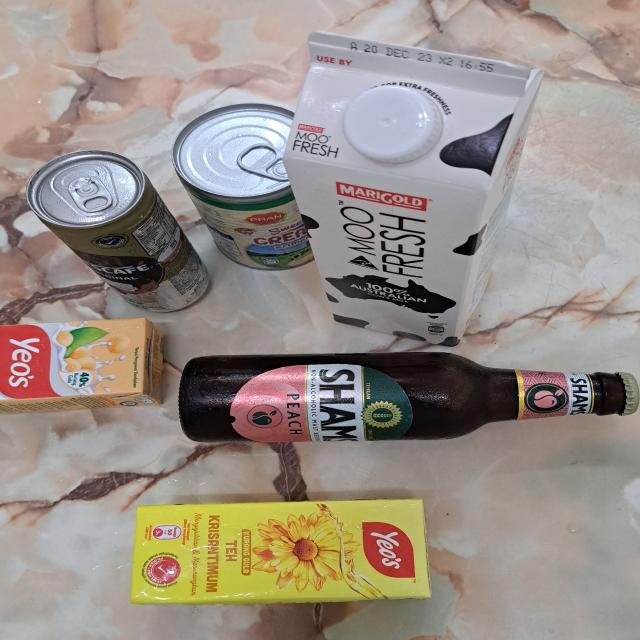can: (25, 149, 213, 314), (170, 103, 315, 270)
drink carton: (280, 30, 547, 348), (130, 498, 434, 606), (0, 317, 167, 415)
glass bottle: (177, 351, 640, 444)
plastic bottle cap: (343, 85, 445, 166)
pop tab: (236, 142, 290, 182), (68, 176, 113, 212)
